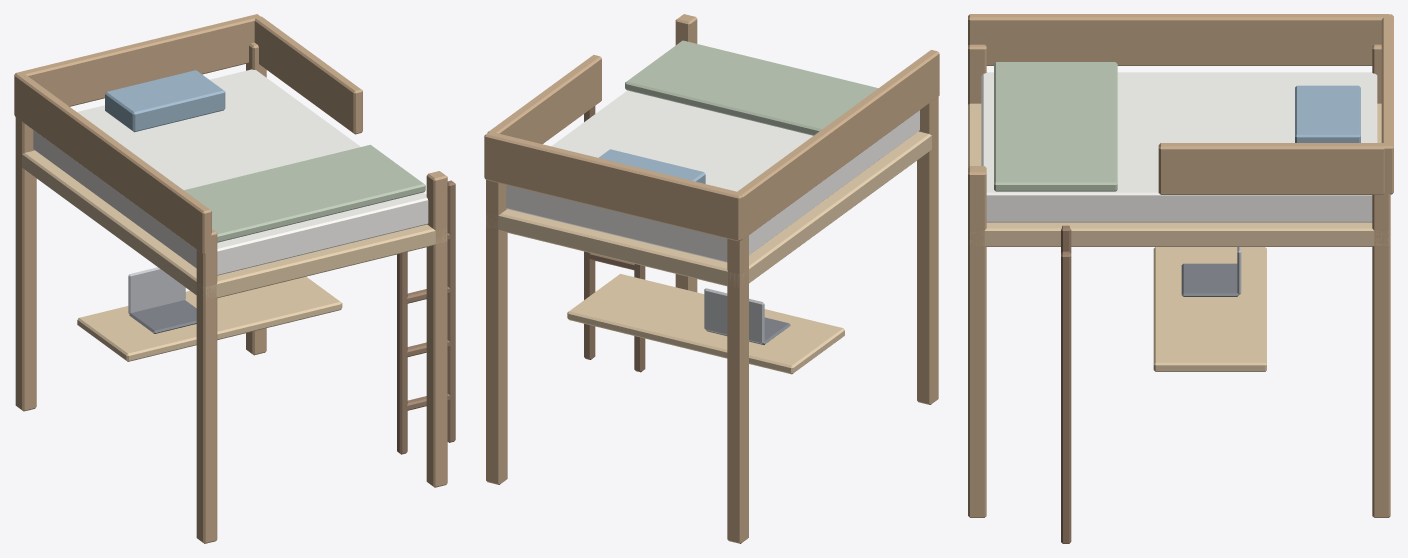
File: LoftBed.glb
3 renders of one model, left to right at view 1: azimuth 30°, elevation 25°; view 2: azimuth 150°, elevation 25°; view 3: azimuth 270°, elevation 25°, orthographic. The views are drawn at different scales.
Parts seen in each view (by area): view 1: SpaceSaver_LoftBed; view 2: SpaceSaver_LoftBed; view 3: SpaceSaver_LoftBed.
Part boxes in pixels (left/top/right/bottom): SpaceSaver_LoftBed: left=14, top=14, right=455, bottom=543; SpaceSaver_LoftBed: left=484, top=14, right=939, bottom=543; SpaceSaver_LoftBed: left=968, top=14, right=1393, bottom=543.
Size of the model in its own units: 1.84 by 1.99 by 2.07.
